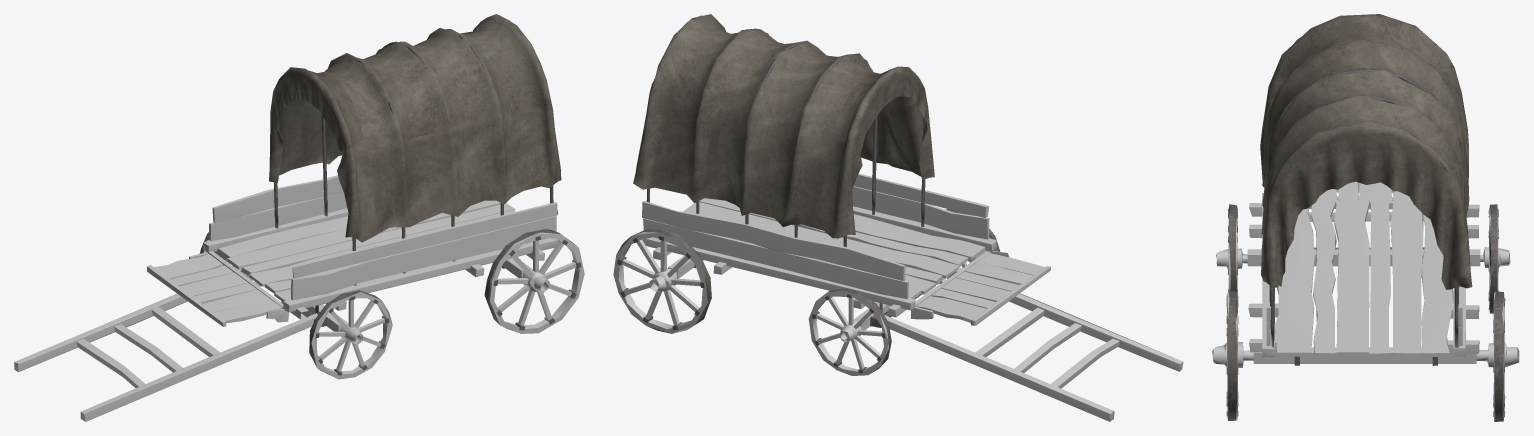
Rendered from SM_Cart.fbx.
The picture shows the model from 3 angles, left to right: view 1: azimuth 30°, elevation 25°; view 2: azimuth 150°, elevation 25°; view 3: azimuth 270°, elevation 25°; orthographic projection. The views are drawn at different scales.
Visible parts, largest first — view 1: SM_Cart_LOD0; view 2: SM_Cart_LOD0; view 3: SM_Cart_LOD0.
Boxes of the visible parts, x1,y1,x2,y2 form: SM_Cart_LOD0: (14,14,584,421); SM_Cart_LOD0: (613,14,1183,421); SM_Cart_LOD0: (1212,14,1519,421).
Bounding box in the file's own units: 479 × 225 × 253.
